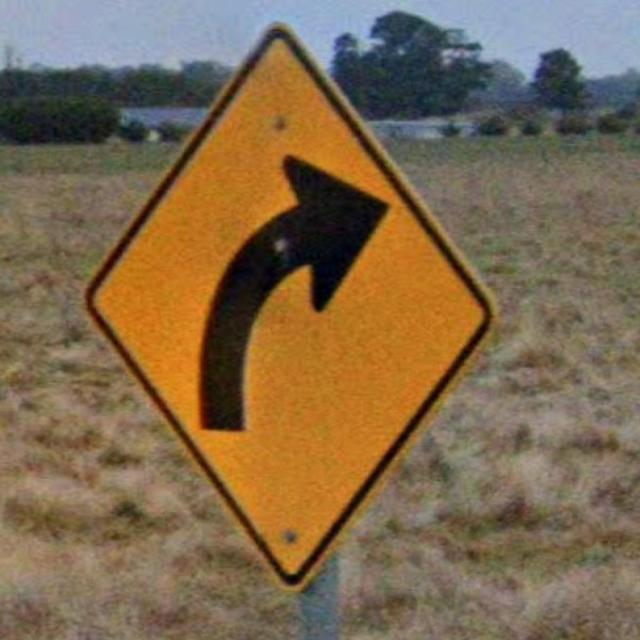Tikungan Ke Kanan: (71, 15, 502, 594)
